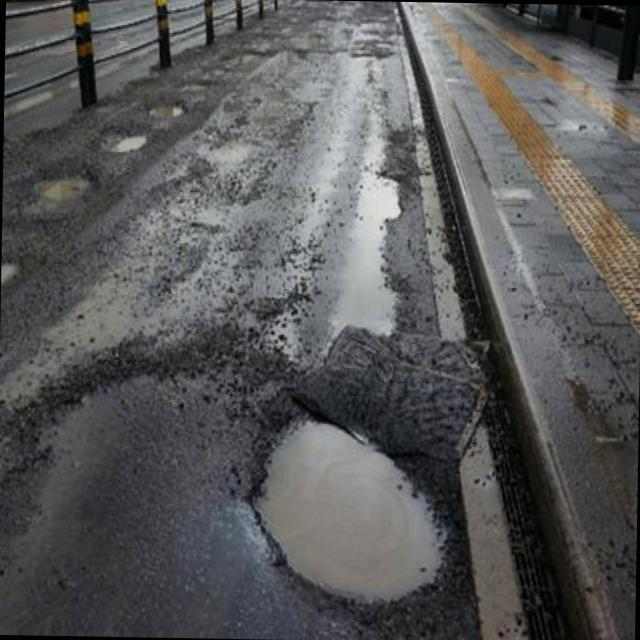pothole: (242, 382, 464, 626), (44, 158, 98, 208), (98, 122, 158, 164), (138, 94, 188, 124), (1, 254, 30, 294), (214, 46, 260, 71)
